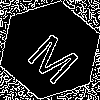M: (24, 25, 88, 86)
